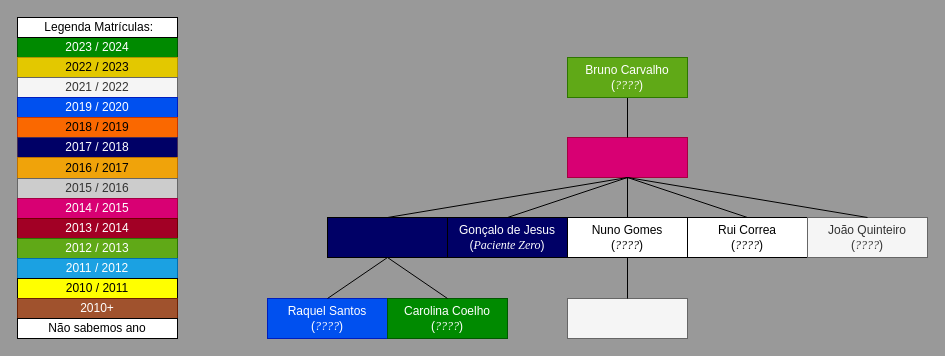
Some shapes in this 945 by 356 pixel diagram are drawn without their labels. Each missing label, with the centre of its shape:
Ana Ferreira ( Arquipélagos ): point (387, 237)
Gonçalo Correia ( ???? ): point (627, 318)
Guilherme Santos ( ???? ): point (627, 157)
